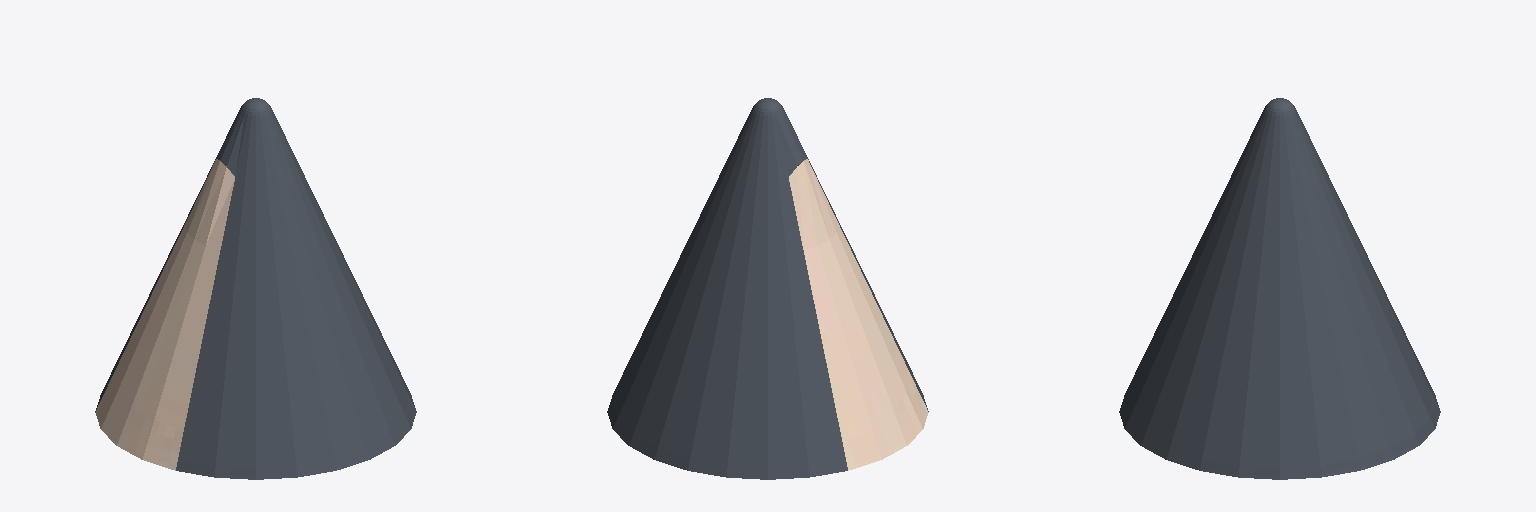
3 renders of one model, left to right at view 1: azimuth 30°, elevation 25°; view 2: azimuth 150°, elevation 25°; view 3: azimuth 270°, elevation 25°, orthographic.
Visible parts, largest first — view 1: Object004; view 2: Object004; view 3: Object004.
Boxes of the visible parts, box(x1,y1,x2,y2) form: Object004: box(95, 98, 416, 479); Object004: box(607, 98, 928, 479); Object004: box(1119, 98, 1440, 479).
Bounding box in the file's own units: 14 × 15 × 14.
Materials: 1 (1 with a texture image).